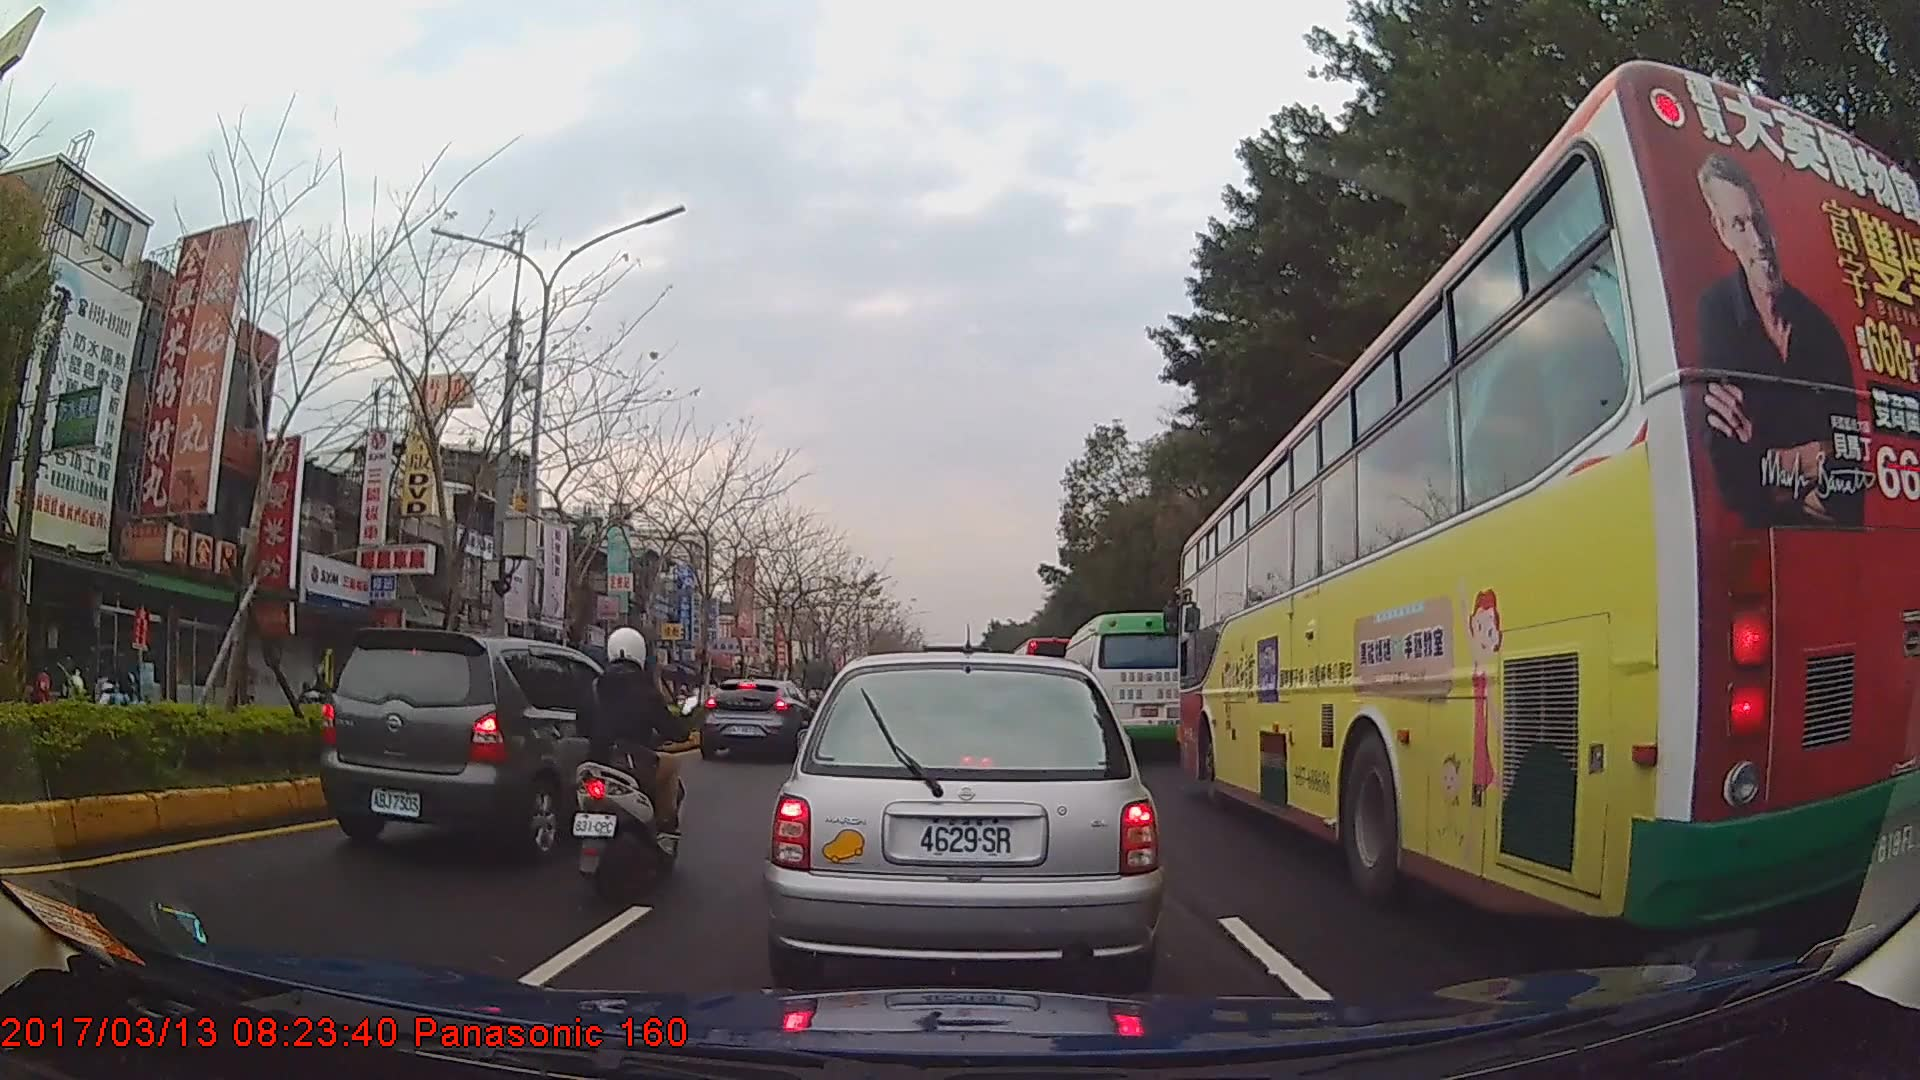rider: (573, 625, 692, 890), (97, 649, 141, 706), (305, 663, 336, 705)
vehicle: (1175, 53, 1920, 937), (769, 649, 1158, 984), (319, 627, 650, 863), (1061, 610, 1190, 761), (699, 678, 820, 762)
